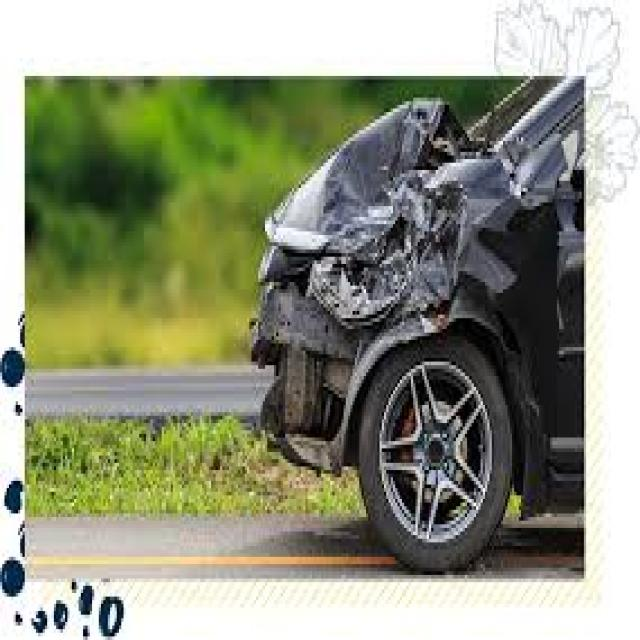accident: (228, 85, 547, 563)
